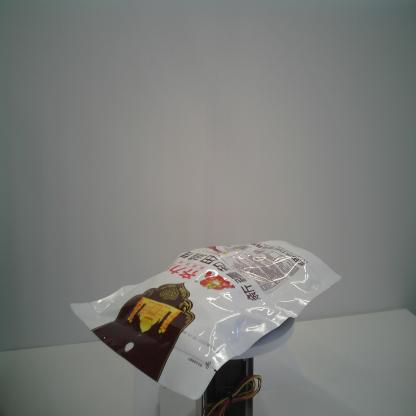Dried Food: (69, 235, 344, 402)
